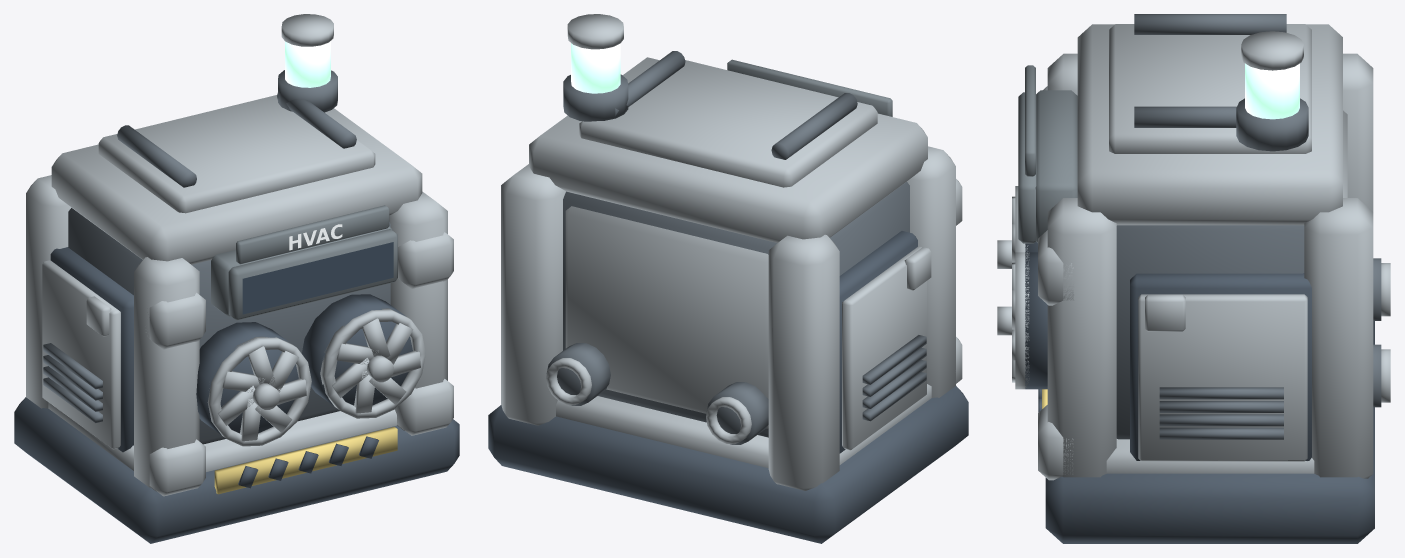
The model's file is hvac_standard.glb.
The picture shows the model from 3 angles, left to right: view 1: azimuth 30°, elevation 25°; view 2: azimuth 150°, elevation 25°; view 3: azimuth 270°, elevation 25°; orthographic projection. The views are drawn at different scales.
Visible parts, largest first — view 1: Frame_steel_legacy_4, Base_black_legacy_0, TopCap_steel_legacy_10, RoofPanel_steel_legacy_11, CornerGuard_steel_legacy_5, FanBlade_steel_legacy_15, ServiceDoor_steel_legacy_7, Fan_black_legacy_13, Housing_dark_legacy_2, FanGuard_steel_legacy_14, LiveViewSurface_glass, Skirt_steel_legacy_1 (+13 smaller); view 2: Frame_steel_legacy_4, Armor_steel_legacy_3, Base_black_legacy_0, TopCap_steel_legacy_10, RoofPanel_steel_legacy_11, ServiceDoor_steel_legacy_7, Housing_dark_legacy_2, Skirt_steel_legacy_1, RearPort_dark_legacy_26, LiftRail_dark_legacy_12, SideVents_dark_legacy_8, SidePanel_black_legacy_6 (+7 smaller); view 3: Frame_steel_legacy_4, TopCap_steel_legacy_10, Base_black_legacy_0, ServiceDoor_steel_legacy_7, RoofPanel_steel_legacy_11, Housing_dark_legacy_2, SideVents_dark_legacy_8, SidePanel_black_legacy_6, LiftRail_dark_legacy_12, ScreenMount_frame, CornerGuard_steel_legacy_5, Skirt_steel_legacy_1 (+12 smaller).
Boxes of the visible parts, left/top/right/bottom form: Frame_steel_legacy_4: left=26, top=175, right=447, bottom=491; Base_black_legacy_0: left=14, top=397, right=459, bottom=543; TopCap_steel_legacy_10: left=51, top=108, right=422, bottom=264; RoofPanel_steel_legacy_11: left=98, top=95, right=375, bottom=213; CornerGuard_steel_legacy_5: left=146, top=232, right=453, bottom=496; FanBlade_steel_legacy_15: left=218, top=318, right=420, bottom=441; ServiceDoor_steel_legacy_7: left=42, top=260, right=120, bottom=449; Fan_black_legacy_13: left=196, top=294, right=412, bottom=435; Housing_dark_legacy_2: left=68, top=208, right=390, bottom=444; FanGuard_steel_legacy_14: left=207, top=308, right=425, bottom=446; LiveViewSurface_glass: left=242, top=242, right=393, bottom=314; Skirt_steel_legacy_1: left=48, top=402, right=396, bottom=471; Frame_steel_legacy_4: left=501, top=146, right=955, bottom=490; Armor_steel_legacy_3: left=565, top=206, right=768, bottom=428; Base_black_legacy_0: left=488, top=386, right=968, bottom=543; TopCap_steel_legacy_10: left=529, top=57, right=927, bottom=242; RoofPanel_steel_legacy_11: left=579, top=60, right=877, bottom=187; ServiceDoor_steel_legacy_7: left=842, top=246, right=926, bottom=450; Housing_dark_legacy_2: left=563, top=181, right=909, bottom=437; Skirt_steel_legacy_1: left=556, top=384, right=931, bottom=468; RearPort_dark_legacy_26: left=546, top=343, right=768, bottom=444; LiftRail_dark_legacy_12: left=615, top=51, right=857, bottom=159; SideVents_dark_legacy_8: left=862, top=335, right=926, bottom=421; SidePanel_black_legacy_6: left=839, top=231, right=917, bottom=453; Frame_steel_legacy_4: left=1047, top=53, right=1373, bottom=478; TopCap_steel_legacy_10: left=1077, top=24, right=1342, bottom=225; Base_black_legacy_0: left=1045, top=321, right=1374, bottom=543; ServiceDoor_steel_legacy_7: left=1138, top=294, right=1307, bottom=461; RoofPanel_steel_legacy_11: left=1109, top=24, right=1311, bottom=153; Housing_dark_legacy_2: left=1116, top=225, right=1304, bottom=439; SideVents_dark_legacy_8: left=1159, top=387, right=1283, bottom=439; SidePanel_black_legacy_6: left=1130, top=273, right=1311, bottom=460; LiftRail_dark_legacy_12: left=1134, top=14, right=1286, bottom=127; ScreenMount_frame: left=1035, top=90, right=1077, bottom=242; CornerGuard_steel_legacy_5: left=1038, top=86, right=1073, bottom=480; Skirt_steel_legacy_1: left=1106, top=439, right=1314, bottom=473.
Bounding box in the file's own units: 1.43 × 1.65 × 1.25.
